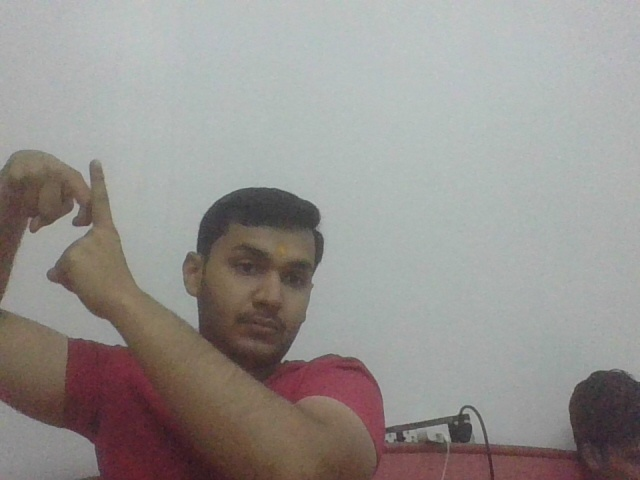K: (47, 156, 122, 245)
